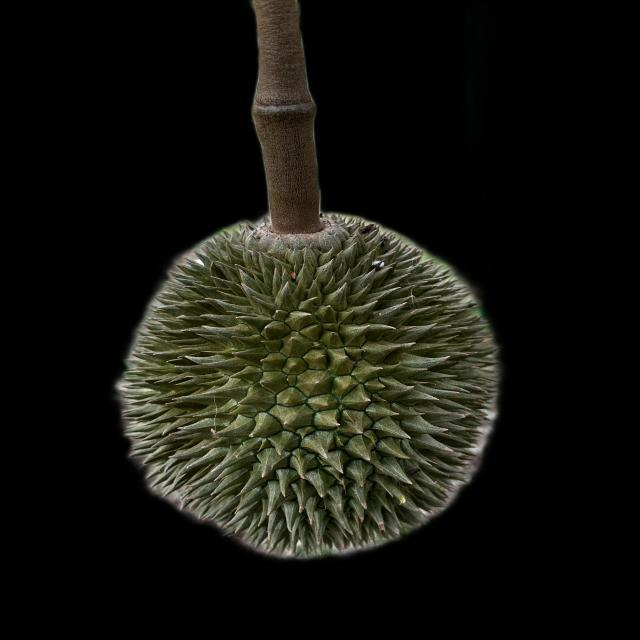immature: (108, 221, 496, 553)
